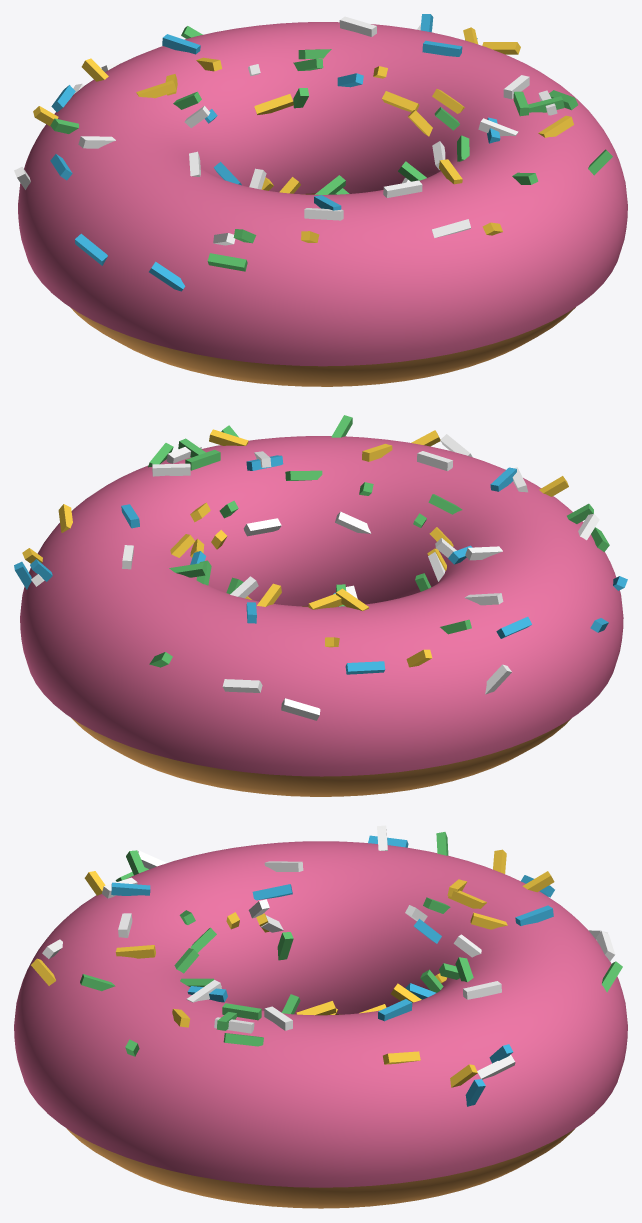
File: donut.glb
3 views of the same model, one above another, from view 1: azimuth 30°, elevation 25°; view 2: azimuth 150°, elevation 25°; view 3: azimuth 270°, elevation 25° (orthographic).
Visible parts, largest first — view 1: cobertura, massa, confeito_c, confeito_d, confeito_a, confeito_b; view 2: cobertura, massa, confeito_a, confeito_d, confeito_c, confeito_b; view 3: cobertura, massa, confeito_d, confeito_a, confeito_c, confeito_b.
Boxes of the visible parts, <box> form: cobertura: <box>18,22,627,366</box>; massa: <box>70,193,575,386</box>; confeito_c: <box>33,27,573,242</box>; confeito_d: <box>50,26,612,271</box>; confeito_a: <box>14,16,557,245</box>; confeito_b: <box>50,14,500,291</box>; cobertura: <box>20,436,623,776</box>; massa: <box>71,605,571,796</box>; confeito_a: <box>31,434,599,720</box>; confeito_d: <box>148,415,609,667</box>; confeito_c: <box>22,429,568,667</box>; confeito_b: <box>14,455,627,674</box>; cobertura: <box>14,841,627,1187</box>; massa: <box>66,1014,575,1208</box>; confeito_d: <box>80,832,622,1056</box>; confeito_a: <box>42,825,615,1079</box>; confeito_c: <box>31,849,554,1087</box>; confeito_b: <box>111,835,554,1106</box>.
Bounding box in the file's own units: 0.1196 × 0.0397 × 0.1192.
